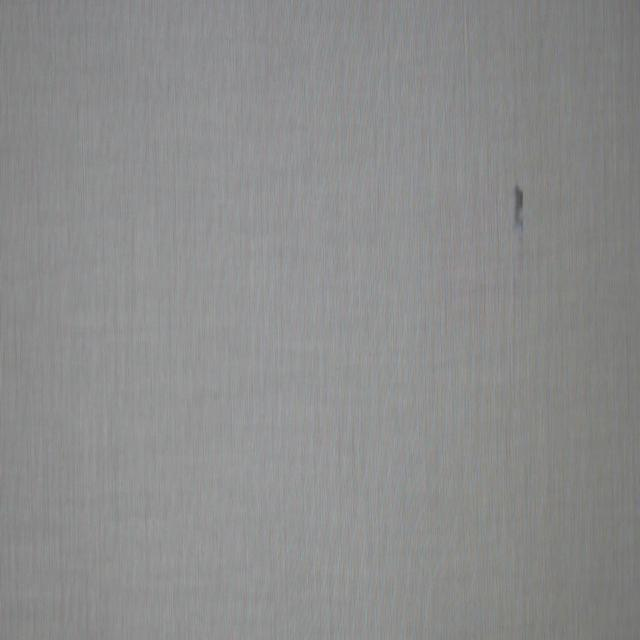dirty: (511, 182, 526, 234)
